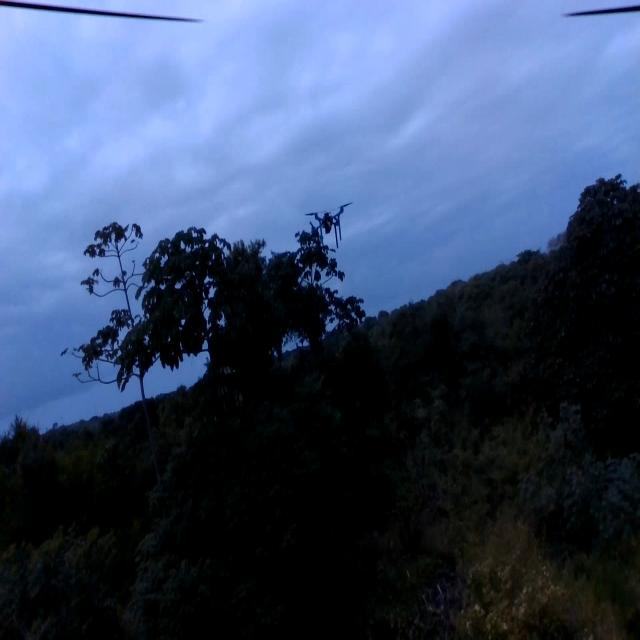-uav-: (300, 195, 362, 249)
